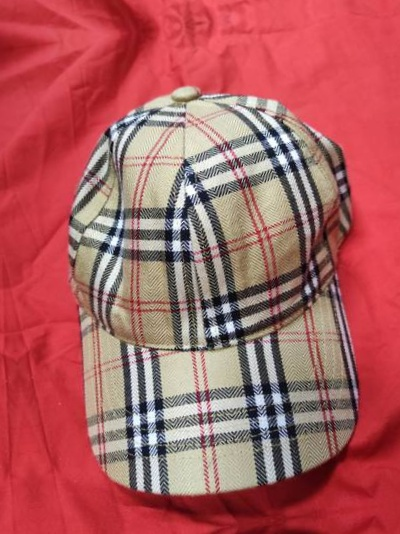Hat: (6, 40, 400, 525), (0, 94, 13, 534), (0, 0, 343, 12), (71, 525, 400, 534)
